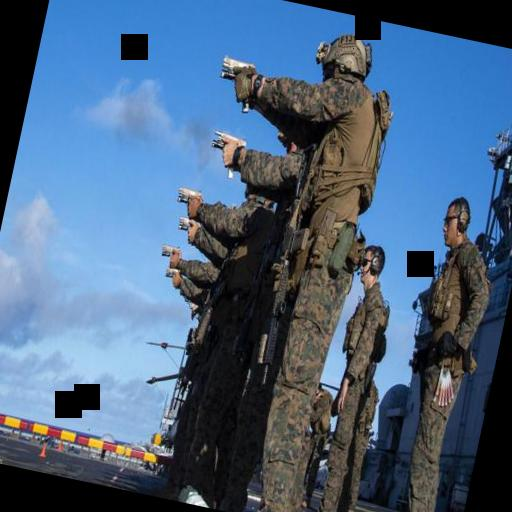Handgun: (210, 52, 258, 114), (202, 122, 248, 180), (172, 178, 204, 217), (156, 236, 182, 262), (174, 206, 198, 234), (162, 260, 178, 280)
